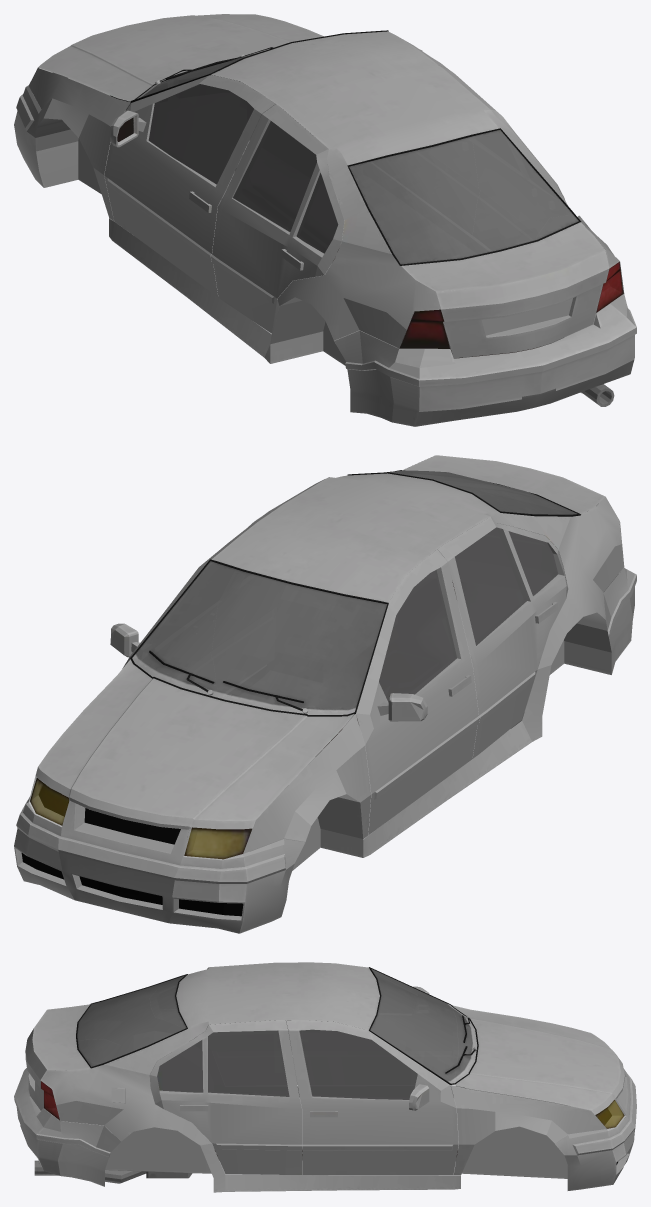
Rendered from sedan.glb.
The picture shows the model from 3 angles, top to bottom: view 1: azimuth 30°, elevation 25°; view 2: azimuth 150°, elevation 25°; view 3: azimuth 270°, elevation 25°; orthographic projection. The views are drawn at different scales.
Parts seen in each view (by area): view 1: sedan_body_sedan_white_0; view 2: sedan_body_sedan_white_0; view 3: sedan_body_sedan_white_0.
Part boxes in pixels (x1,y1,x2,y2): sedan_body_sedan_white_0: (14, 14, 636, 426); sedan_body_sedan_white_0: (14, 455, 636, 933); sedan_body_sedan_white_0: (14, 962, 636, 1192).
Bounding box in the file's own units: 1.94 × 1.4 × 4.6.
1 material, 1 textured.
